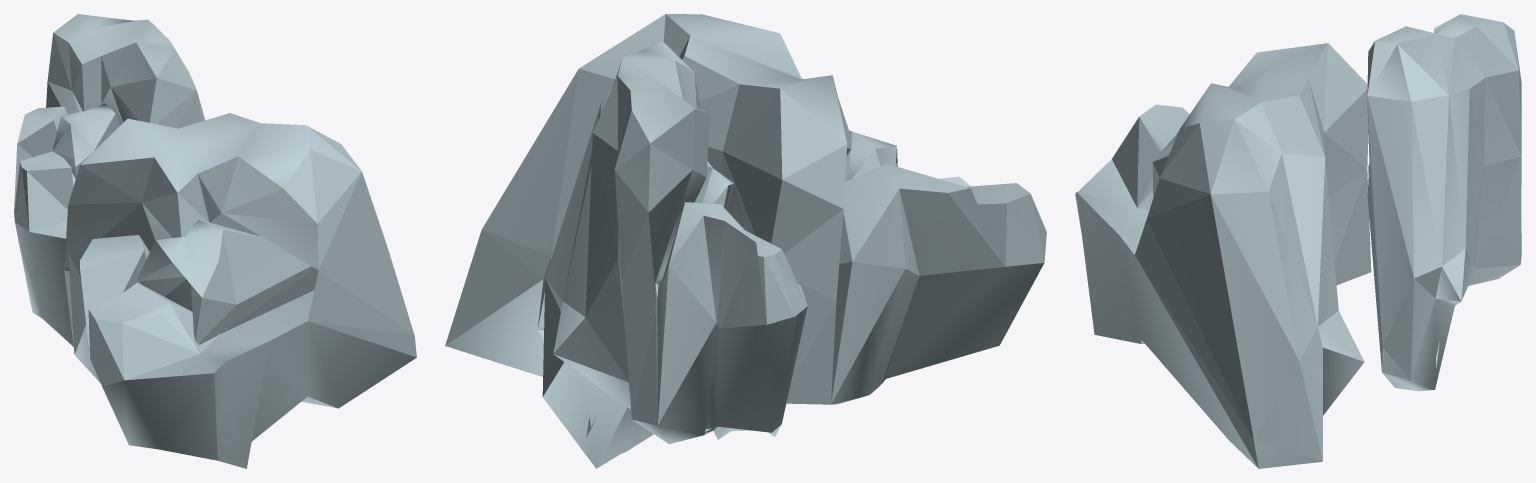
Rendered from iceberg2.fbx.
3 renders of one model, left to right at view 1: azimuth 30°, elevation 25°; view 2: azimuth 150°, elevation 25°; view 3: azimuth 270°, elevation 25°, orthographic. The views are drawn at different scales.
Parts seen in each view (by area): view 1: Box003, Box002; view 2: Box003, Box002; view 3: Box003, Box002.
Boxes of the visible parts, bbox=[...] form: Box003: bbox=[64, 113, 416, 468]; Box002: bbox=[14, 14, 205, 346]; Box003: bbox=[445, 14, 1046, 404]; Box002: bbox=[542, 41, 807, 468]; Box003: bbox=[1075, 43, 1371, 468]; Box002: bbox=[1367, 14, 1521, 391].
Size of the model in its own units: 865 by 752 by 833.
